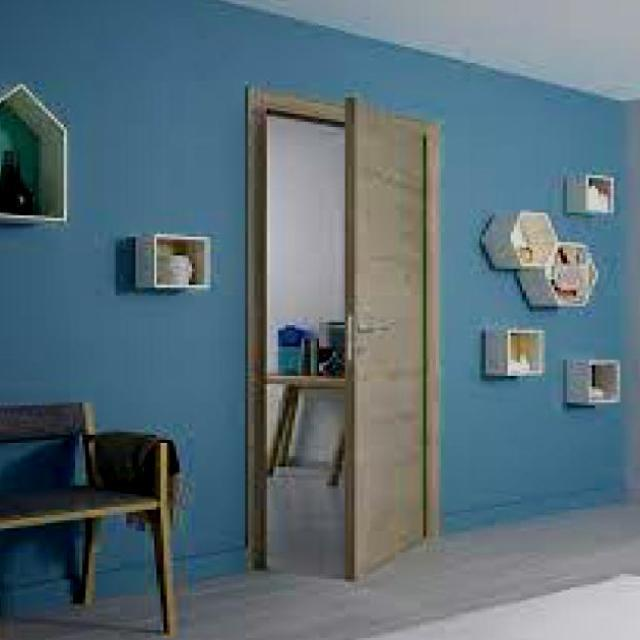door: (336, 81, 438, 582)
